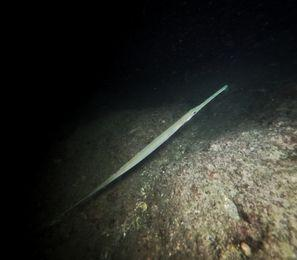Fistularia commersonii: (63, 47, 247, 210)
